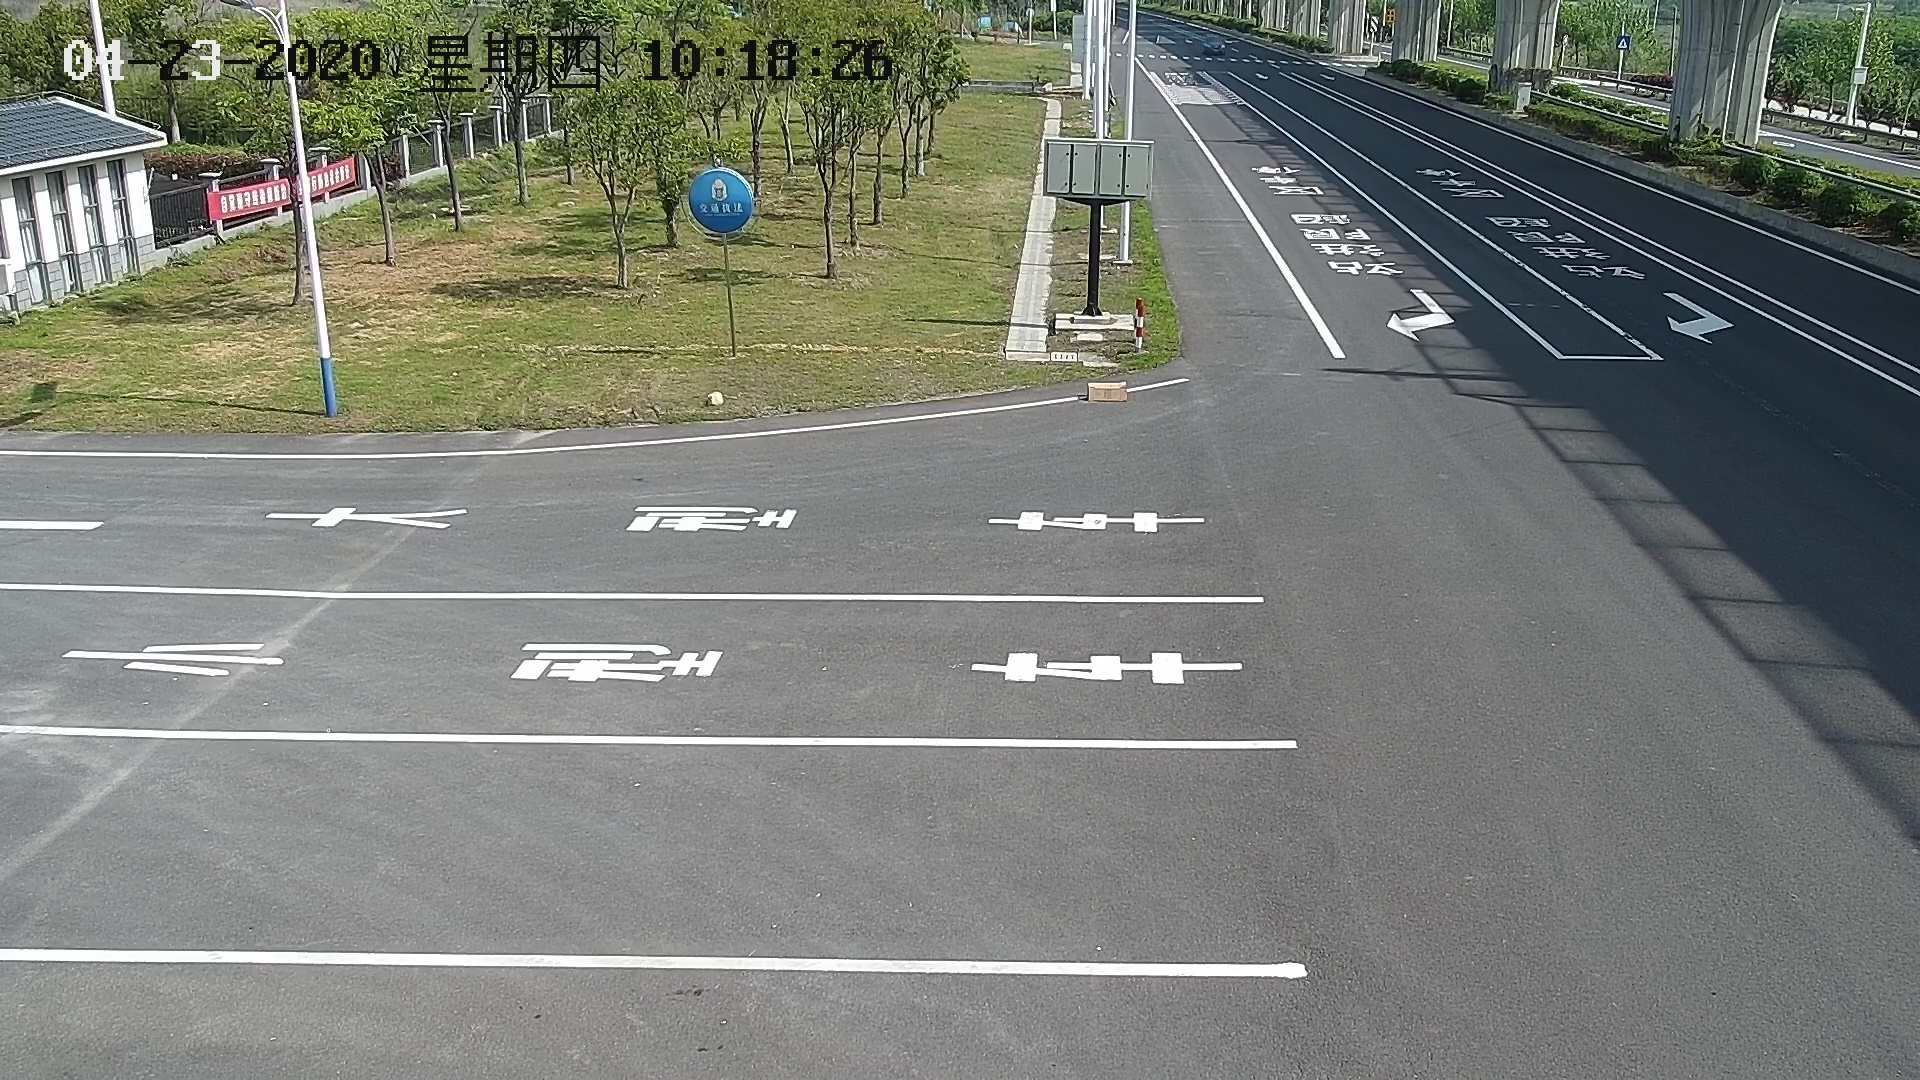box: (1080, 378, 1134, 407)
